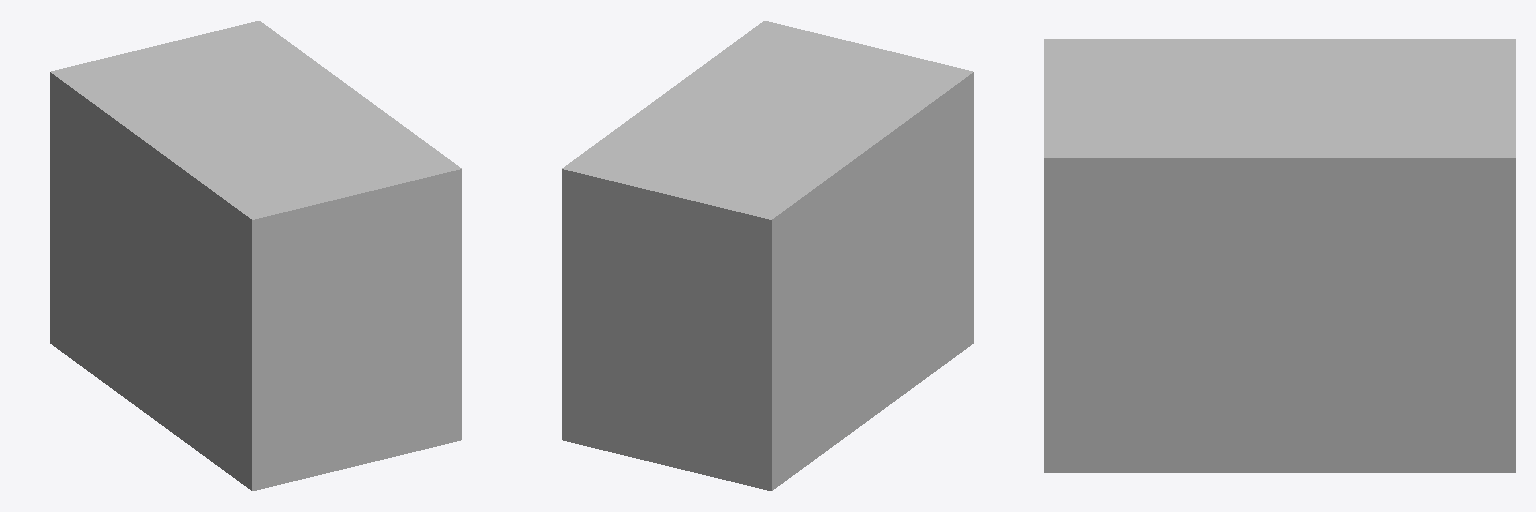
robot.urdf — box.urdf:
<?xml version="1.0" ?>
<robot name="box.urdf">
  <link name="baseLink">
    <contact>
      <lateral_friction value="1.0"/>
      <rolling_friction value="0.0001"/>
      <inertia_scaling value="3.0"/>
    </contact>
    <inertial>
      <origin rpy="0 0 0" xyz="0 0 0"/>
       <mass value="0.1"/>
       <inertia ixx="1" ixy="0" ixz="0" iyy="1" iyz="0" izz="1"/>
    </inertial>
    <visual>
      <origin rpy="0 0 0" xyz="0 0 0"/>
      <geometry>
        <!-- <box size="0.174 0.29100000000000004 0.215"/> -->
        <mesh filename="box/box.obj" scale="0.174 0.29100000000000004 0.215"/>
      </geometry>
      <material name="white">
        <color rgba="0.8 0.8 0.8 1"/>
      </material>
    </visual>
    <collision>
      <origin rpy="0 0 0" xyz="0 0 0"/>
      <geometry>
        <mesh filename="box/box.obj" scale="0.174 0.29100000000000004 0.215"/>
	 	    <!-- <box size="0.174 0.29100000000000004 0.215"/> -->
      </geometry>
    </collision>
  </link>
</robot>

--- What the picture shows (computed from the rendered views, not written in the file) ---
3 views of the same robot in one strip: view 1: azimuth 30°, elevation 25°; view 2: azimuth 150°, elevation 25°; view 3: azimuth 270°, elevation 25° (orthographic).
Model box.urdf with 1 links and 0 joints (none), rooted at baseLink, posed every joint at zero.
Links seen in each view (by area): view 1: baseLink; view 2: baseLink; view 3: baseLink.
Boxes of the visible links, <box> form: baseLink: <box>50,21,461,490</box>; baseLink: <box>562,21,973,490</box>; baseLink: <box>1044,39,1515,472</box>.
Bounding box of the posed robot: 0.174 × 0.291 × 0.215 m (x, y, z).
1 mesh visuals loaded from 1 distinct referenced files (1 OBJ).
